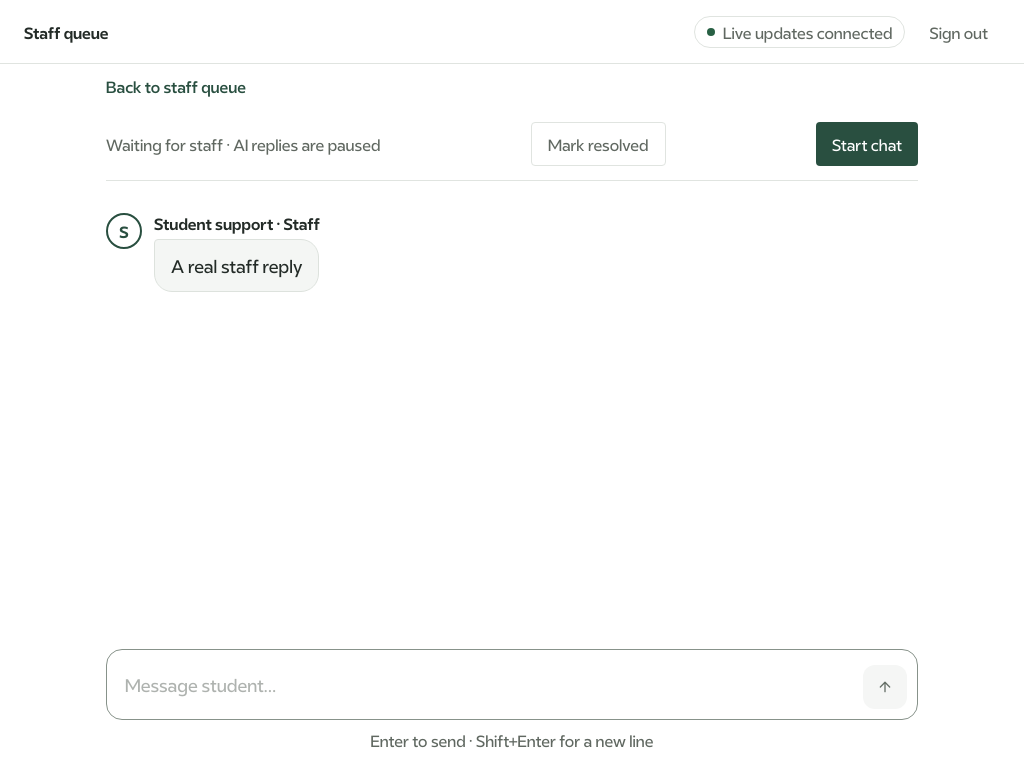
Test case: requires staff acceptance before replying and labels staff separately
Expected: the text "A real staff reply" is shown, [154,239,319,292]
Expected: the text "Student support · Staff" is shown, [154,211,320,234]
Click the button "Start chat" at (867, 144), box [816,122,918,166]
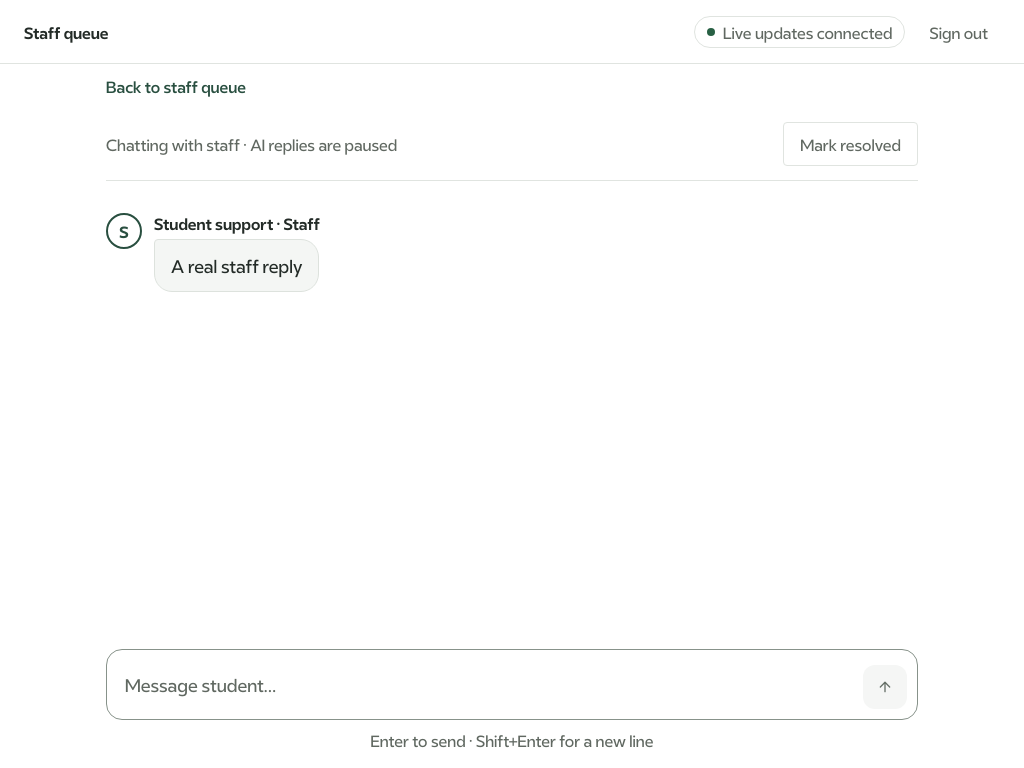
Now the text box labelled "Message student" is enabled, box [125,660,851,709]
